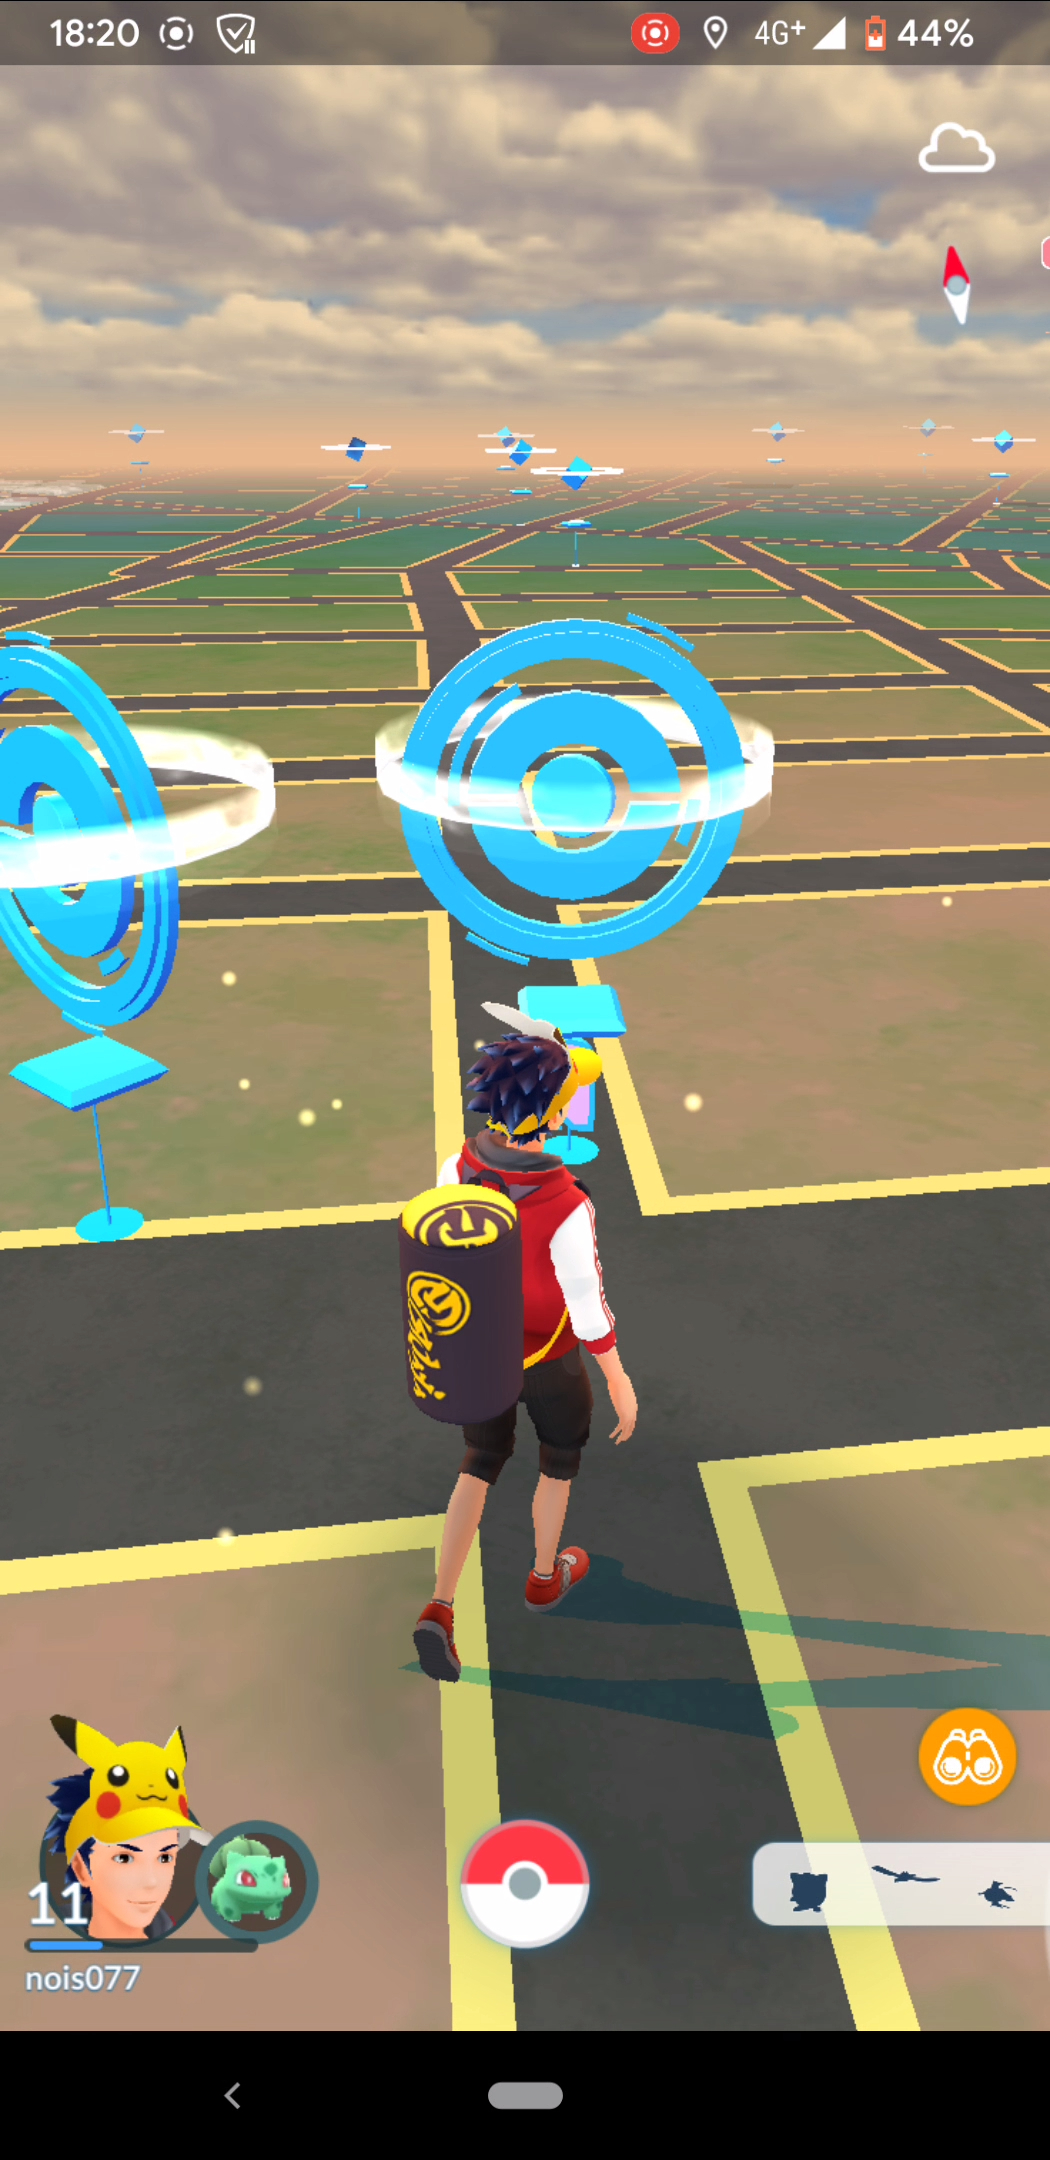pokestop: (391, 609, 752, 968)
